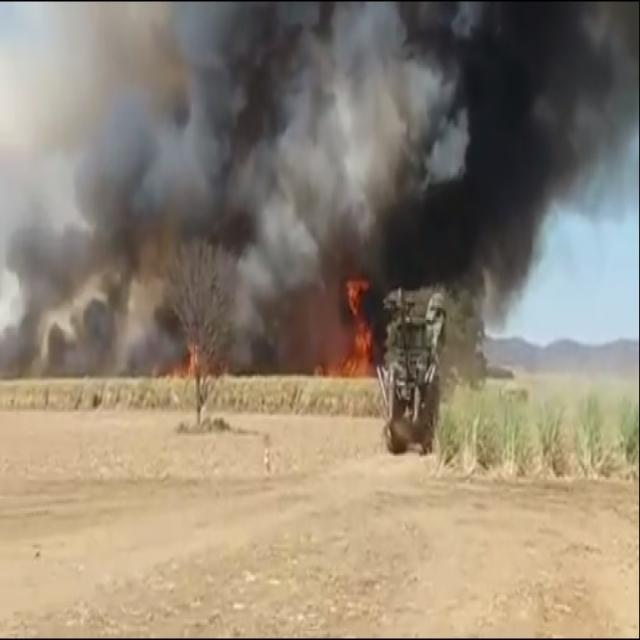Fire: (321, 272, 374, 382), (166, 340, 202, 378)
Smoke: (2, 3, 630, 379)
